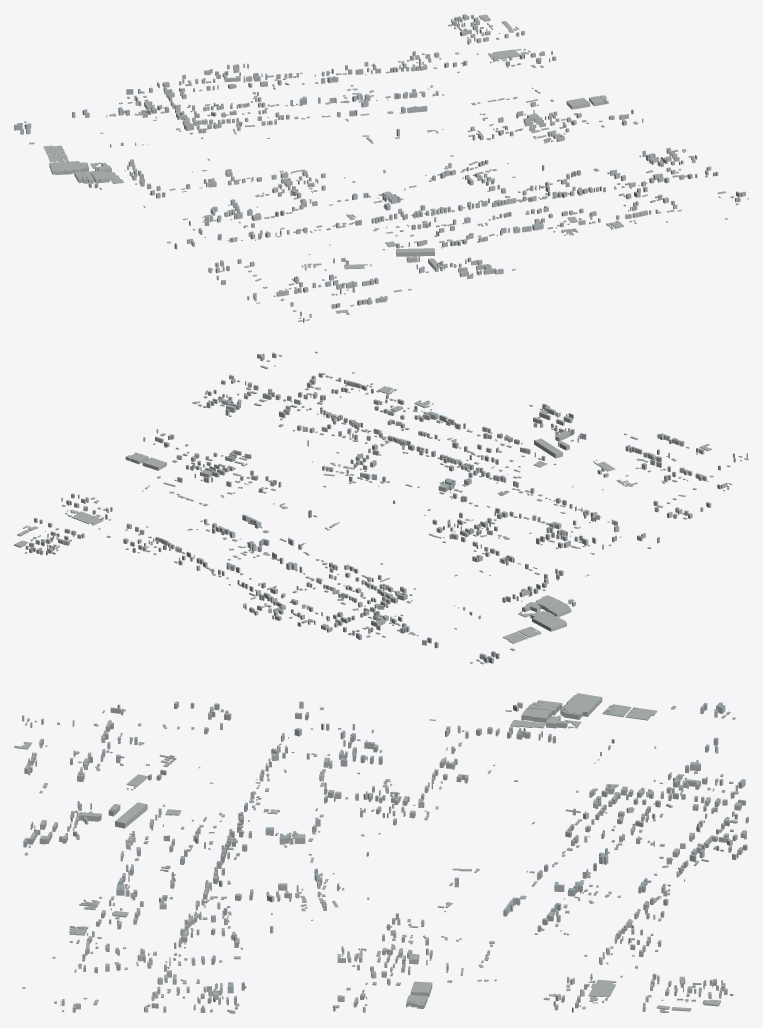
File: far.glb
3 renders of one model, top to bottom at view 1: azimuth 30°, elevation 25°; view 2: azimuth 150°, elevation 25°; view 3: azimuth 270°, elevation 25°, orthographic. The views are drawn at different scales.
Bounding box in the file's own units: 2167 × 27.2 × 2129.
